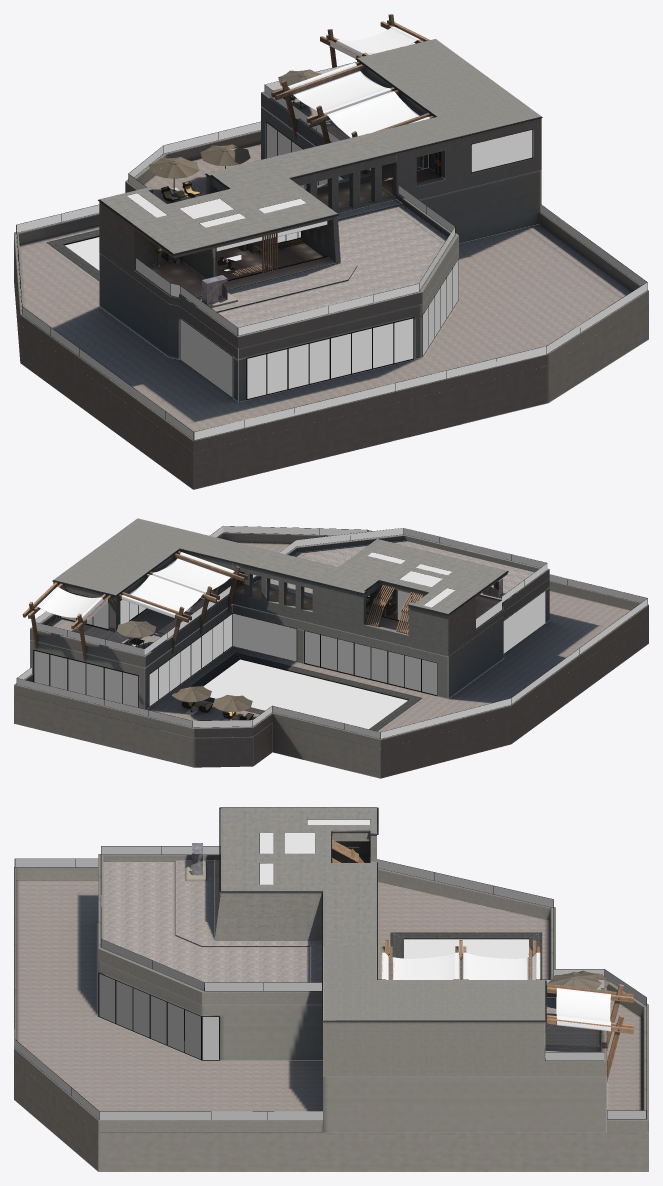
The picture shows the model from 3 angles, top to bottom: view 1: azimuth 30°, elevation 25°; view 2: azimuth 150°, elevation 25°; view 3: azimuth 270°, elevation 25°; orthographic projection. The views are drawn at different scales.
Parts seen in each view (by area): view 1: EXT_Tiles_Mesh2, Closet_door_001, WallsDownMesh3, Walls, WallsB_N2, Walls3133, HexTiles2, ProtConcMesh2, C_Table_R_Mesh, Cloth1Exterior2, ExtConc24, ExtWood (+9 smaller); view 2: Closet_door_001, WallsDownMesh3, Walls, EXT_Tiles_Mesh2, WallsB_N2, ProtConcMesh2, Walls3133, C_Table_R_Mesh, Cloth1Exterior2, HexTiles2, ExtConc24, Pool_Mesh2 (+11 smaller); view 3: EXT_Tiles_Mesh2, WallsDownMesh3, WallsB_N2, Walls3133, Walls, Closet_door_001, HexTiles2, ProtConcMesh2, ExtConc24, Cloth1Exterior2, C_Table_R_Mesh, WoodSLargeCloth3 (+7 smaller).
Part boxes in pixels (x1,y1,x2,y2): EXT_Tiles_Mesh2: (19, 143, 631, 431); Closet_door_001: (16, 63, 647, 439); WallsDownMesh3: (14, 246, 648, 489); Walls: (99, 133, 396, 306); WallsB_N2: (261, 39, 541, 199); Walls3133: (99, 106, 541, 402); HexTiles2: (198, 199, 447, 327); ProtConcMesh2: (14, 130, 648, 452); C_Table_R_Mesh: (16, 59, 647, 440); Cloth1Exterior2: (288, 62, 430, 137); ExtConc24: (179, 193, 458, 348); ExtWood: (134, 182, 392, 298); Closet_door_001: (17, 526, 647, 738); WallsDownMesh3: (14, 614, 648, 778); Walls: (232, 539, 507, 656); EXT_Tiles_Mesh2: (147, 542, 630, 737); WallsB_N2: (30, 518, 252, 667); ProtConcMesh2: (14, 532, 648, 748); Walls3133: (30, 578, 549, 709); C_Table_R_Mesh: (16, 526, 647, 738); Cloth1Exterior2: (121, 552, 234, 617); HexTiles2: (254, 540, 534, 602); ExtConc24: (253, 534, 549, 611); Pool_Mesh2: (191, 652, 422, 731); EXT_Tiles_Mesh2: (16, 880, 643, 1111); WallsDownMesh3: (14, 1030, 648, 1171); WallsB_N2: (323, 946, 606, 1076); Walls3133: (98, 961, 606, 1132); Walls: (214, 807, 376, 945); Closet_door_001: (15, 819, 646, 1119); HexTiles2: (103, 860, 321, 982); ProtConcMesh2: (14, 867, 648, 1132); ExtConc24: (98, 854, 321, 1004); Cloth1Exterior2: (381, 952, 540, 979); C_Table_R_Mesh: (14, 819, 646, 1119); WoodSLargeCloth3: (556, 985, 610, 1031).
Size of the model in its own units: 44.04 by 12.27 by 46.53.
91 materials, 90 textured.
